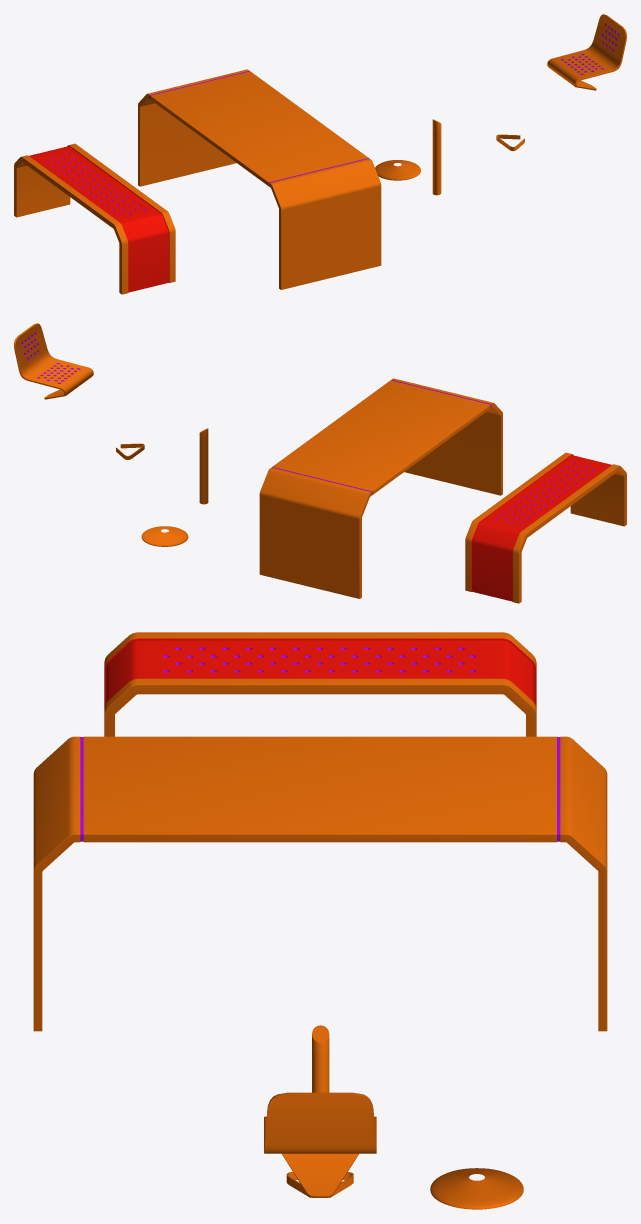
The model's file is SeatingAssets_High_EXP.FBX.
3 views of the same model, one above another, from view 1: azimuth 30°, elevation 25°; view 2: azimuth 150°, elevation 25°; view 3: azimuth 270°, elevation 25° (orthographic). The views are drawn at different scales.
Visible parts, largest first — view 1: SeatingAssets_High_EXP; view 2: SeatingAssets_High_EXP; view 3: SeatingAssets_High_EXP.
Boxes of the visible parts, x1,y1,x2,y2 form: SeatingAssets_High_EXP: (14, 14, 626, 294); SeatingAssets_High_EXP: (14, 323, 626, 603); SeatingAssets_High_EXP: (33, 632, 607, 1209).
Size of the model in its own units: 153 by 36.16 by 69.62.
